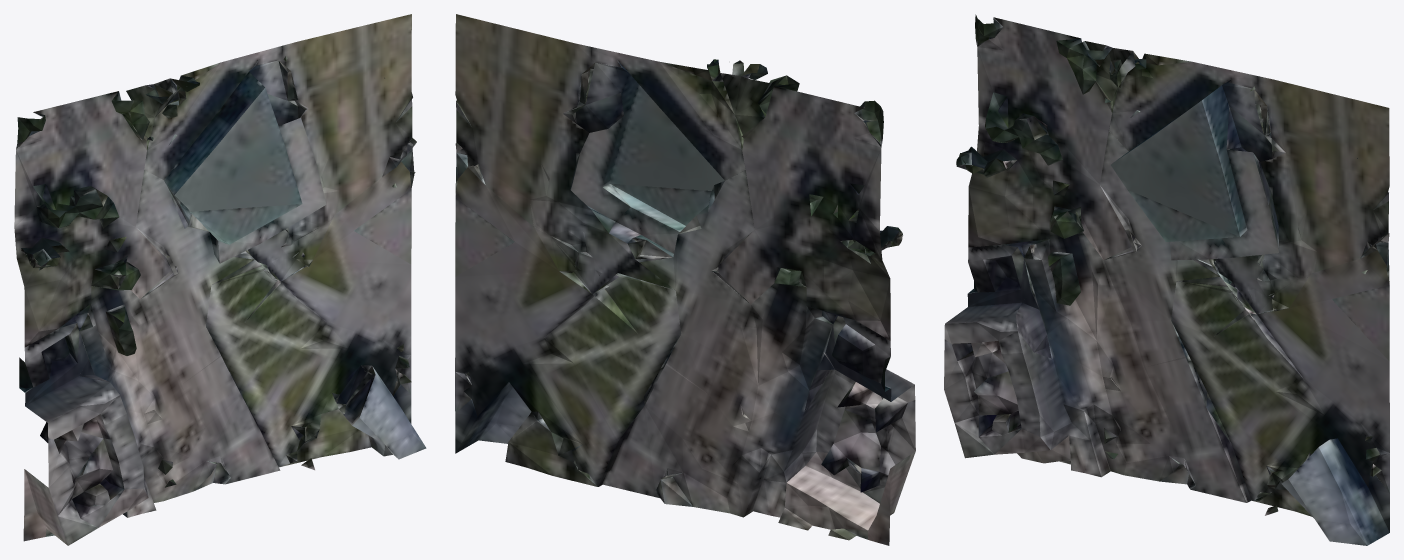
The model's file is Tile_+032_+022_L15_00.obj.
3 renders of one model, left to right at view 1: azimuth 30°, elevation 25°; view 2: azimuth 150°, elevation 25°; view 3: azimuth 330°, elevation 25°, orthographic. The views are drawn at different scales.
Size of the model in its own units: 250 by 250 by 44.61.
Materials: 1 (1 with a texture image).
